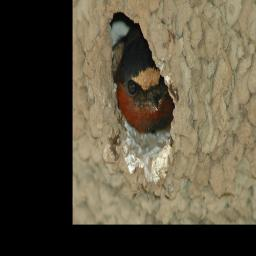Swallow: (115, 25, 175, 134)
